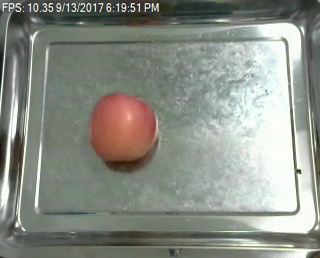Apple: (88, 91, 159, 168)
